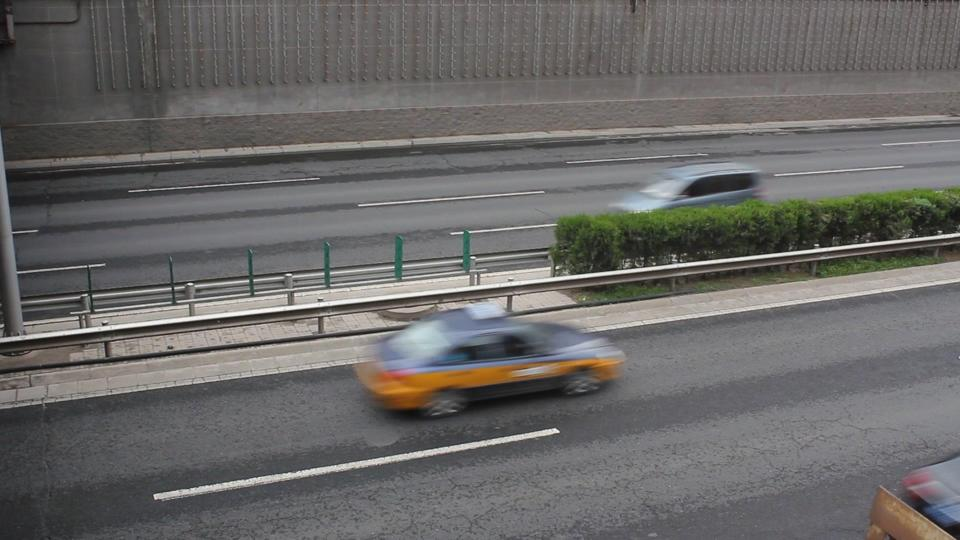Car: (356, 303, 625, 413), (608, 159, 761, 238)
